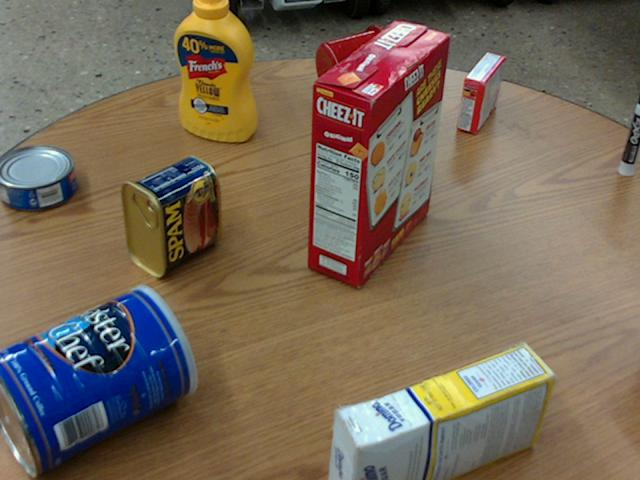cracker_box: (307, 21, 446, 286)
gelatin_box: (457, 53, 506, 134)
large_marker: (618, 86, 639, 175)
master_chef_can: (0, 284, 195, 475)
mug: (314, 24, 396, 102)
mustard_bottle: (173, 0, 254, 141)
potted_meat_can: (118, 154, 218, 276)
sugar_box: (326, 343, 553, 479)
tuna_fish_can: (0, 144, 75, 209)
